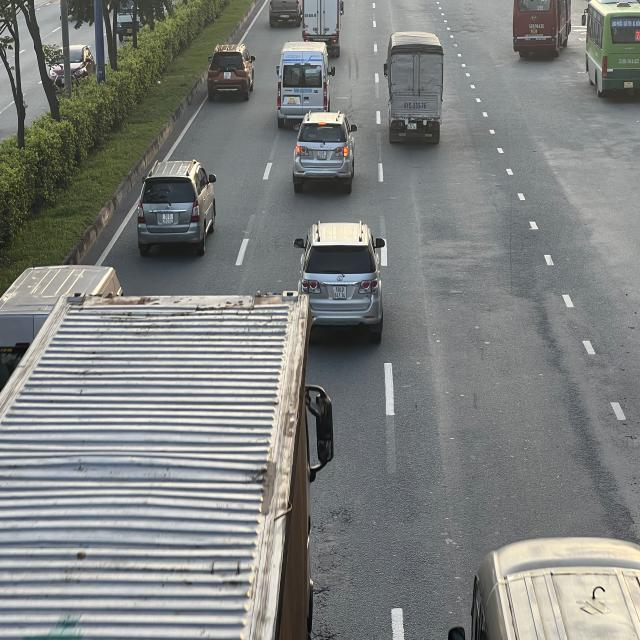car: (297, 223, 389, 342), (136, 161, 218, 258), (289, 110, 356, 192), (205, 43, 255, 101)
coach: (580, 2, 638, 99), (511, 1, 576, 56)
container: (4, 293, 334, 639)
truck: (384, 32, 446, 142), (304, 0, 346, 48)
van: (274, 42, 334, 126)
